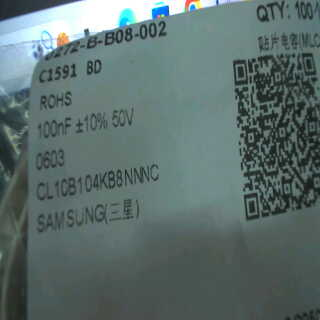100nF: (34, 111, 73, 144)
